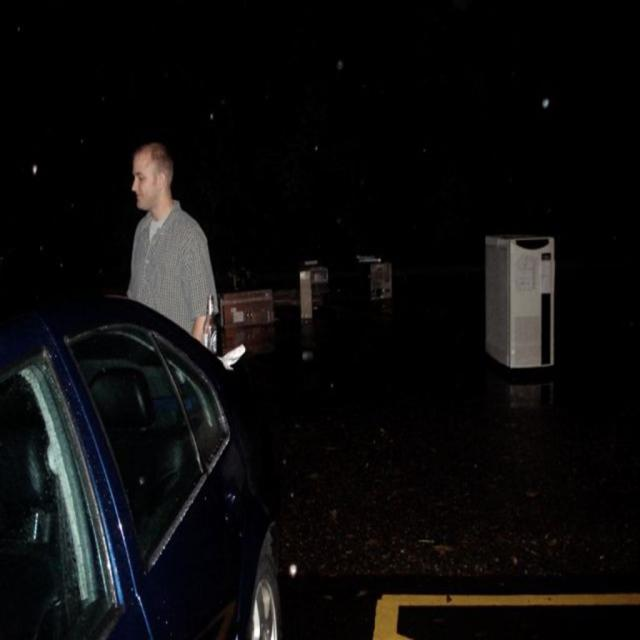car: (20, 247, 291, 620)
